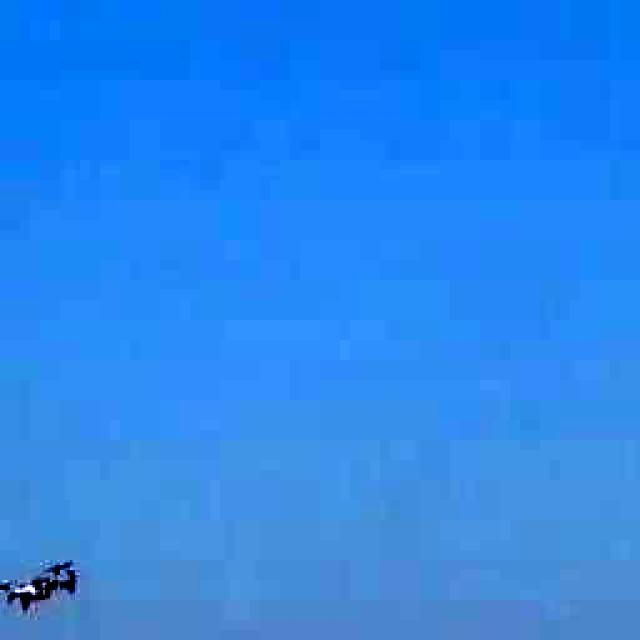bird: (0, 544, 90, 631)
